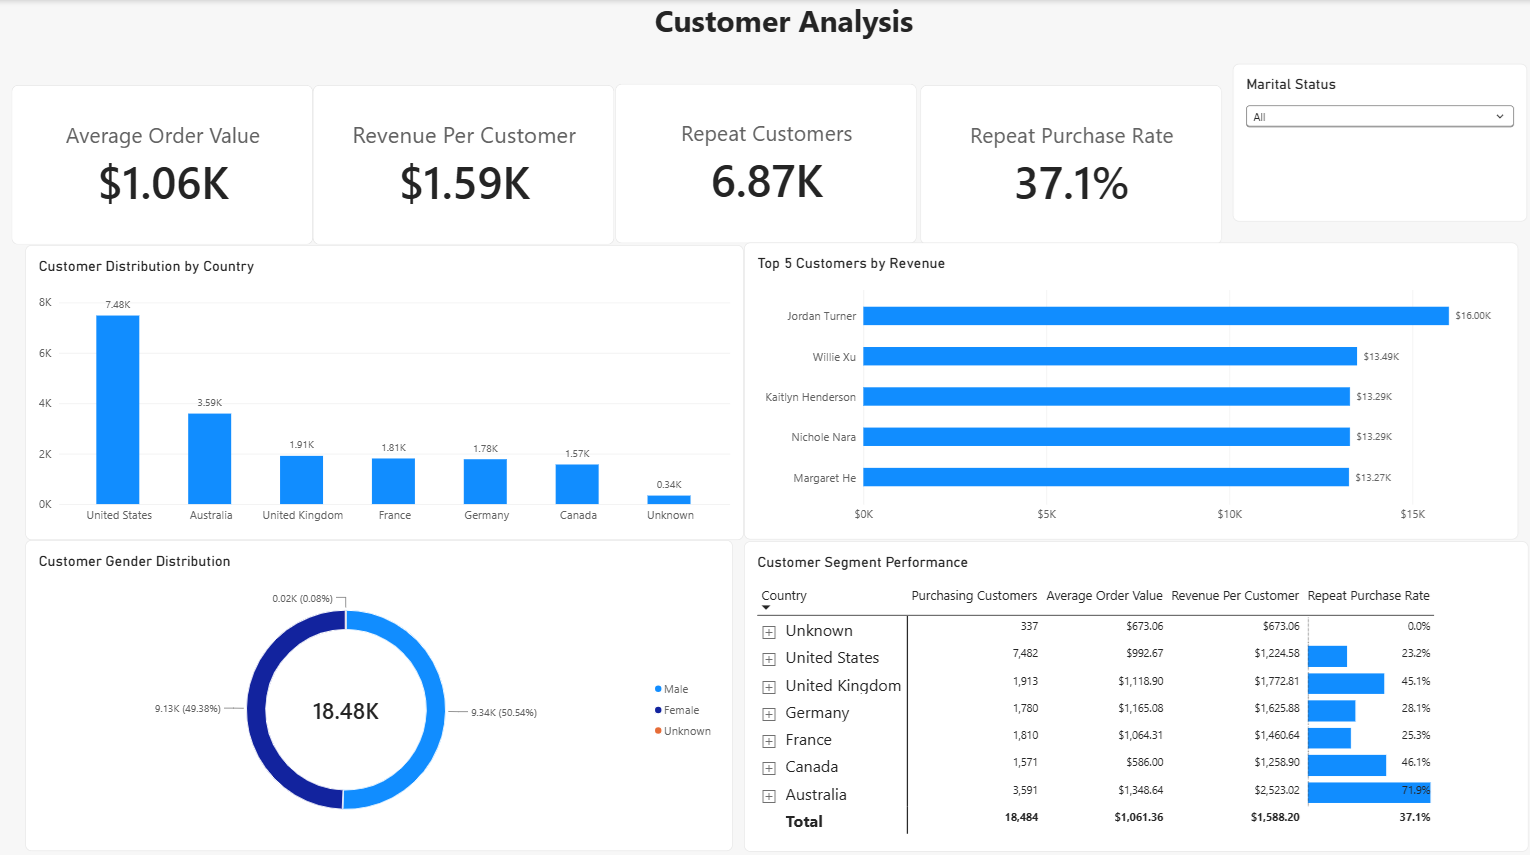

The page's visual inventory and layout, read from the dashboard file:
{"tool":"powerbi","page":{"name":"Customer Analysis","canvas":[1920,1080],"ordinal":2},"visuals":[{"type":"textbox","box":[716.3,0,523.7,123.4],"z":0},{"type":"cardVisual","fields":{"Data":["gold_datasets sales.Average Order Value"]},"box":[15.1,106,376.6,199.1],"z":1},{"type":"cardVisual","fields":{"Data":["gold_datasets sales.Revenue Per Customer"]},"box":[391.7,106,376.6,199.1],"z":2},{"type":"cardVisual","fields":{"Data":["gold_datasets sales.Repeat Customers"]},"box":[768.3,103.9,376.6,199.1],"z":3},{"type":"cardVisual","fields":{"Data":["gold_datasets sales.Repeat Purchase Rate"]},"box":[1149.2,106,376.6,199.1],"z":4},{"type":"clusteredColumnChart","title":"Customer Distribution by Country","fields":{"Category":["gold_datasets customers.country"],"Y":["gold_datasets sales.Purchasing Customers"]},"box":[32.7,305.5,896.4,367.9],"z":5},{"type":"donutChart","title":"Customer Gender Distribution","fields":{"Category":["gold_datasets customers.gender"],"Y":["gold_datasets sales.Purchasing Customers"]},"box":[32.7,673.4,882.3,388.2],"z":6},{"type":"clusteredBarChart","title":"Top 5 Customers by Revenue","fields":{"Category":["gold_datasets customers.Customer Label"],"Y":["gold_datasets sales.Total Sales"]},"box":[928.4,303,965.2,370.1],"z":7},{"type":"pivotTable","title":"Customer Segment Performance","fields":{"Rows":["gold_datasets customers.country","gold_datasets customers.gender"],"Values":["gold_datasets sales.Purchasing Customers","gold_datasets sales.Average Order Value","gold_datasets sales.Revenue Per Customer","gold_datasets sales.Repeat Purchase Rate"]},"box":[928.4,675.2,978.2,387.4],"z":8},{"type":"listSlicer","title":"Marital Status","fields":{"Values":["gold_datasets customers.marital_status"]},"box":[1538.7,80.1,367,197],"z":9}]}

Visuals, with their boxes in screenshot pixels (x1, y1, x2, y2), scaled from the page's 1920x1080 canvas onto the 1530x855 screenshot:
textbox: detection(571, 0, 988, 98)
cardVisual - gold_datasets sales.Average Order Value: detection(12, 84, 312, 242)
cardVisual - gold_datasets sales.Revenue Per Customer: detection(312, 84, 612, 242)
cardVisual - gold_datasets sales.Repeat Customers: detection(612, 82, 912, 240)
cardVisual - gold_datasets sales.Repeat Purchase Rate: detection(916, 84, 1216, 242)
"Customer Distribution by Country" clusteredColumnChart: detection(26, 242, 740, 533)
"Customer Gender Distribution" donutChart: detection(26, 533, 729, 840)
"Top 5 Customers by Revenue" clusteredBarChart: detection(740, 240, 1509, 533)
"Customer Segment Performance" pivotTable: detection(740, 535, 1519, 841)
"Marital Status" listSlicer: detection(1226, 63, 1519, 219)
